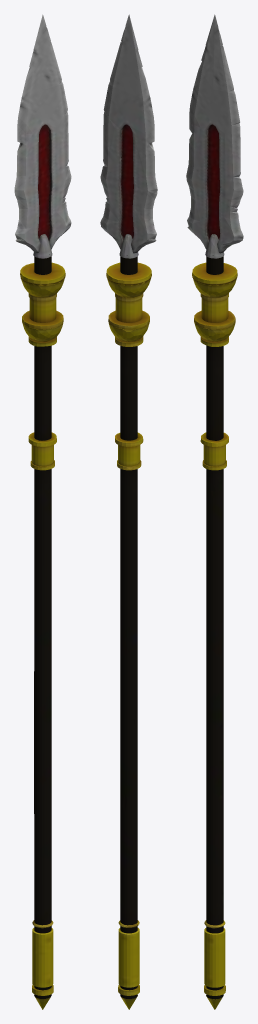
File: wep_spear2.glb
3 renders of one model, left to right at view 1: azimuth 30°, elevation 25°; view 2: azimuth 150°, elevation 25°; view 3: azimuth 330°, elevation 25°, orthographic.
Parts seen in each view (by area): view 1: Manche_low_Lance_Kratos_0; view 2: Manche_low_Lance_Kratos_0; view 3: Manche_low_Lance_Kratos_0.
Boxes of the visible parts, x1=… form: Manche_low_Lance_Kratos_0: x1=14, y1=14, x2=71, y2=1009; Manche_low_Lance_Kratos_0: x1=100, y1=14, x2=157, y2=1009; Manche_low_Lance_Kratos_0: x1=186, y1=14, x2=243, y2=1009.
Size of the model in its own units: 0.2896 by 4.83 by 0.202.
Materials: 1 (1 with a texture image).
